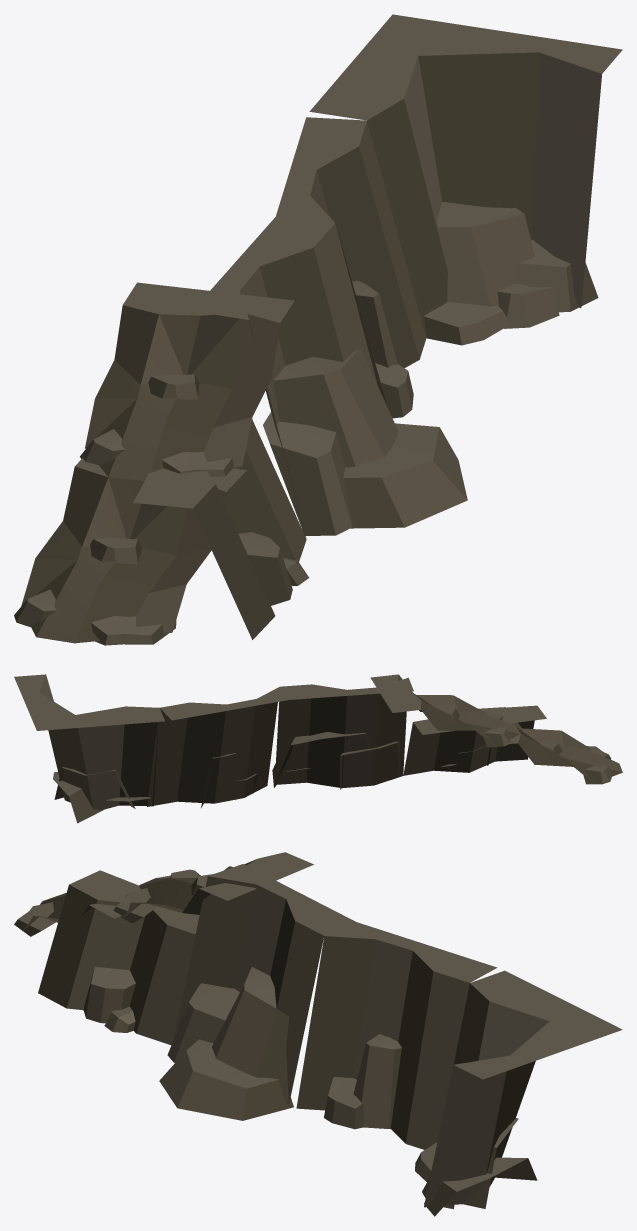
File: Mountain27.fbx
3 views of the same model, one above another, from view 1: azimuth 30°, elevation 25°; view 2: azimuth 150°, elevation 25°; view 3: azimuth 270°, elevation 25° (orthographic). The views are drawn at different scales.
Visible parts, largest first — view 1: Mountain27; view 2: Mountain27; view 3: Mountain27.
Part boxes in pixels (x1=…): Mountain27: x1=14, y1=14, x2=622, y2=645; Mountain27: x1=14, y1=674, x2=622, y2=823; Mountain27: x1=14, y1=852, x2=622, y2=1216.
Size of the model in its own units: 122 by 29.11 by 99.7.
